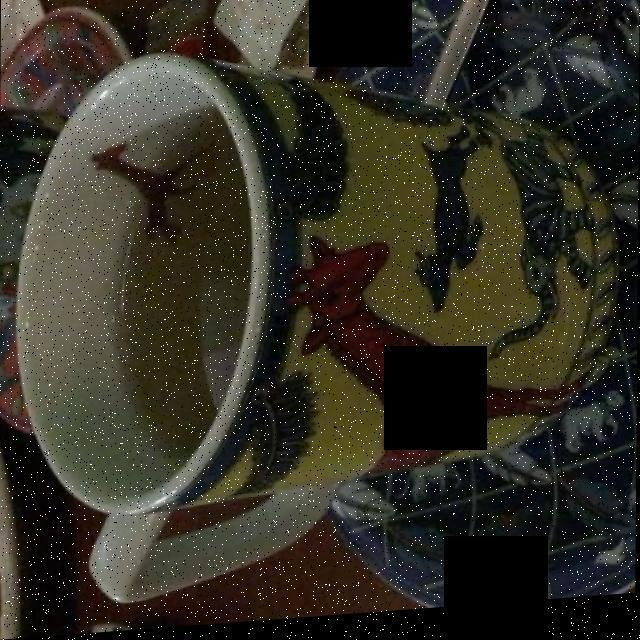tea: (116, 109, 254, 462)
